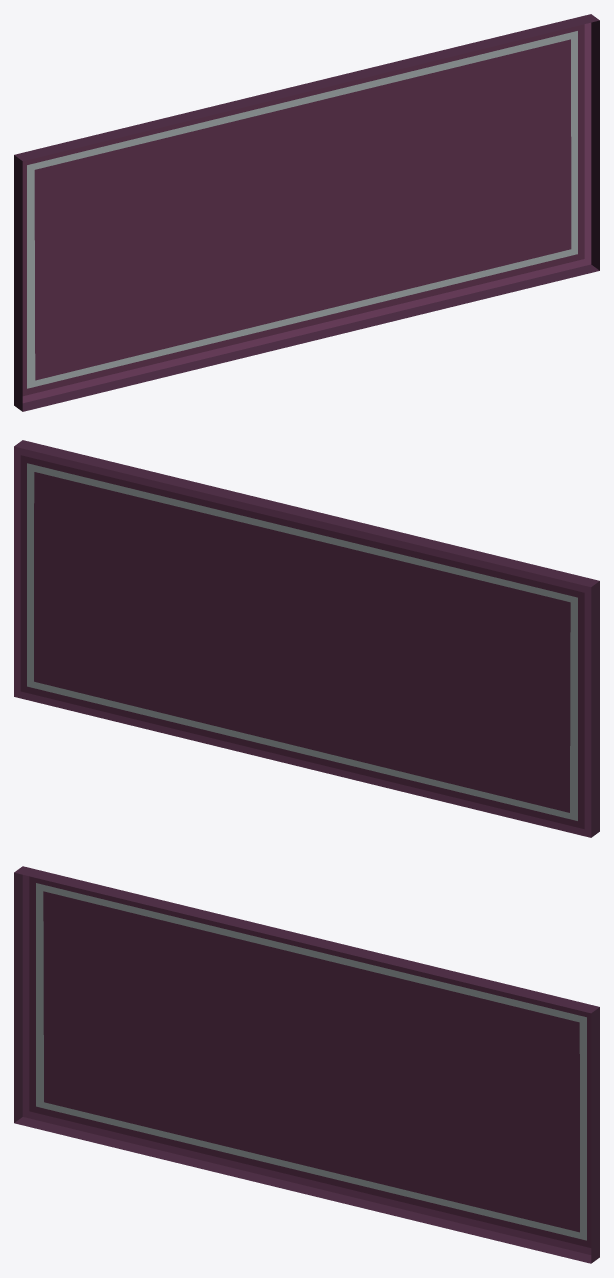
Rendered from HolidayCarpetPurple.fbx.
3 renders of one model, top to bottom at view 1: azimuth 30°, elevation 25°; view 2: azimuth 150°, elevation 25°; view 3: azimuth 330°, elevation 25°, orthographic.
Parts seen in each view (by area): view 1: HolidayCarpetPurple; view 2: HolidayCarpetPurple; view 3: HolidayCarpetPurple.
Boxes of the visible parts, left/top/right/bottom form: HolidayCarpetPurple: left=14, top=14, right=599, bottom=411; HolidayCarpetPurple: left=14, top=440, right=599, bottom=837; HolidayCarpetPurple: left=14, top=866, right=599, bottom=1263.
Bounding box in the file's own units: 752 × 312 × 19.83.
